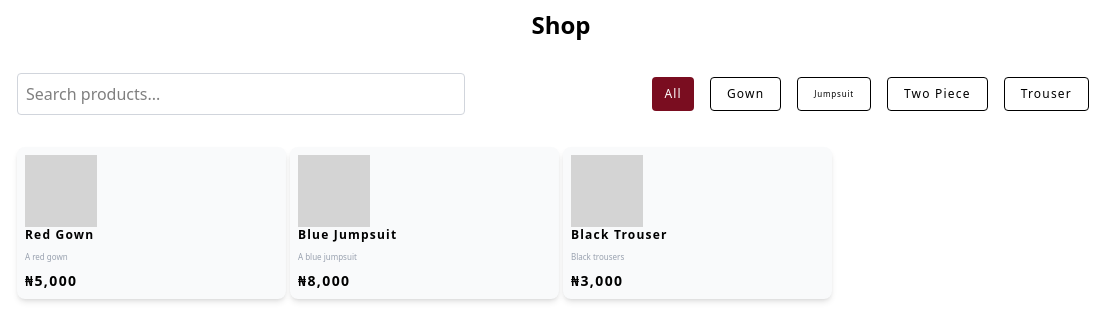
Test case: Product Page › filters products by search term
Type "Gown" into the field with placeholder "Search products..." at (241, 94), box [17,73,465,115]
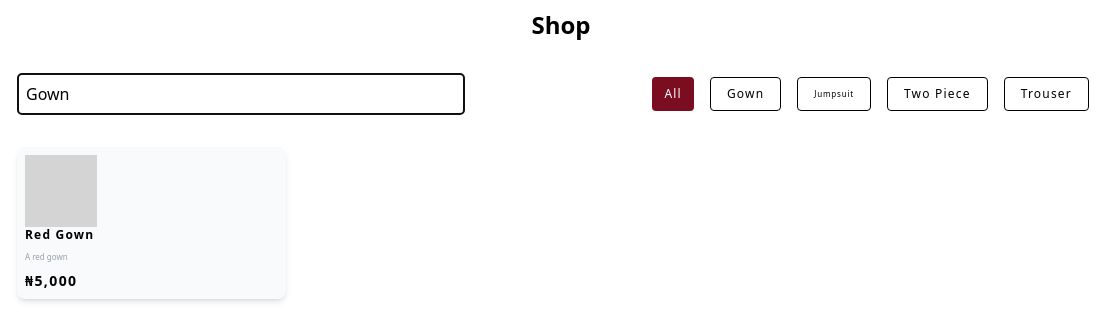
Expected: the text "Red Gown" is shown, [25,226,94,243]
Now the text "Blue Jumpsuit" is gone
Now the text "Black Trouser" is gone
